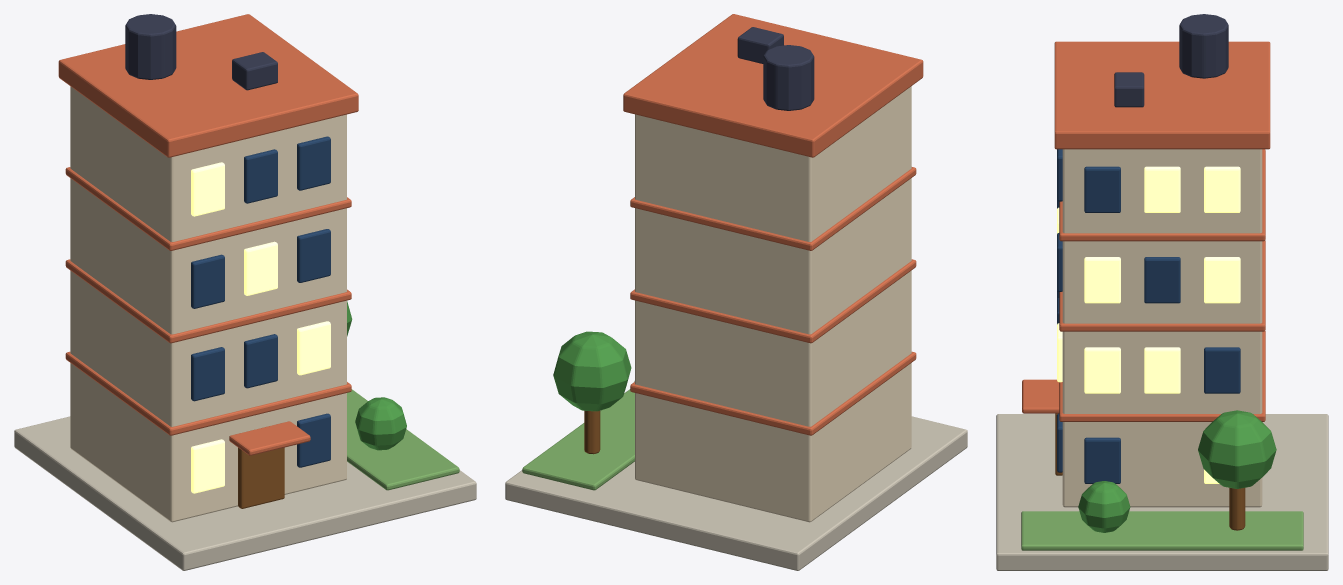
Rendered from apartment.glb.
The picture shows the model from 3 angles, left to right: view 1: azimuth 30°, elevation 25°; view 2: azimuth 150°, elevation 25°; view 3: azimuth 270°, elevation 25°; orthographic projection. The views are drawn at different scales.
Visible parts, largest first — view 1: Apartment; view 2: Apartment; view 3: Apartment.
Part boxes in pixels (<box>): Apartment: <box>14,14,476,570</box>; Apartment: <box>505,14,967,570</box>; Apartment: <box>996,14,1328,570</box>.
Size of the model in its own units: 2 by 2.94 by 2.
